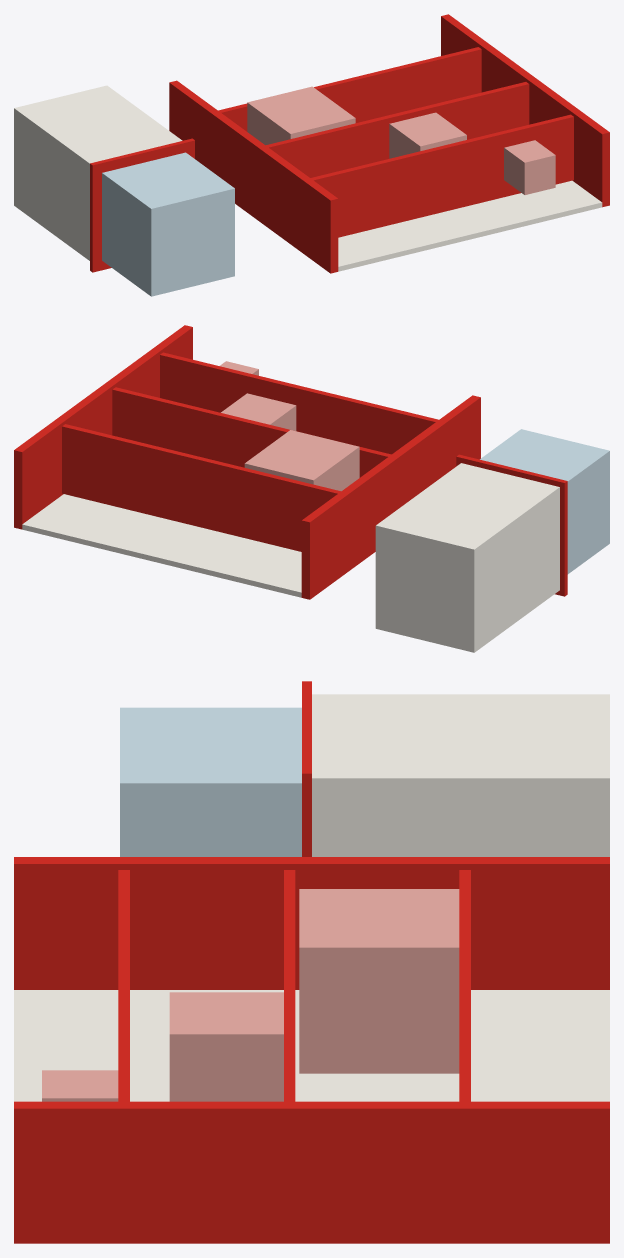
The model's file is display.glb.
3 views of the same model, one above another, from view 1: azimuth 30°, elevation 25°; view 2: azimuth 150°, elevation 25°; view 3: azimuth 270°, elevation 25° (orthographic). The views are drawn at different scales.
Parts seen in each view (by area): view 1: ガラスケース, 展示台, 棚板_上, 棚_側板西, 棚_背板, 棚板_中, 棚板_下, 棚_側板東, ぬいぐるみ大, 展示台トップ, ぬいぐるみ小, ぬいぐるみ中; view 2: 展示台, 棚板_下, 棚_側板西, 棚_背板, 棚板_上, 棚板_中, 棚_側板東, ガラスケース, ぬいぐるみ大, 展示台トップ, ぬいぐるみ中; view 3: 棚_側板東, 棚_側板西, 展示台, 棚_背板, ぬいぐるみ大, ガラスケース, ぬいぐるみ中, 棚板_下, 棚板_中, 棚板_上, ぬいぐるみ小, 展示台トップ.
Part boxes in pixels (x1,y1,x2,y2): ガラスケース: (102, 152, 234, 296); 展示台: (14, 85, 182, 260); 棚板_上: (310, 114, 573, 237); 棚_側板西: (169, 80, 338, 273); 棚_背板: (338, 180, 602, 271); 棚板_中: (266, 82, 529, 177); 棚板_下: (218, 47, 481, 131); 棚_側板東: (441, 14, 609, 207); ぬいぐるみ大: (247, 86, 355, 145); 展示台トップ: (90, 138, 194, 272); ぬいぐるみ小: (504, 140, 555, 194); ぬいぐるみ中: (389, 112, 466, 158); 展示台: (375, 463, 559, 652); 棚板_下: (62, 424, 340, 551); 棚_側板西: (301, 395, 480, 599); 棚_背板: (22, 494, 301, 597); 棚板_上: (160, 352, 438, 454); 棚板_中: (112, 387, 391, 477); 棚_側板東: (14, 325, 192, 529); ガラスケース: (480, 429, 609, 574); ぬいぐるみ大: (244, 430, 359, 491); 展示台トップ: (456, 454, 567, 596); ぬいぐるみ中: (221, 393, 296, 430); 棚_側板東: (14, 1101, 609, 1243); 棚_側板西: (14, 857, 609, 989); 展示台: (312, 694, 609, 856); 棚_背板: (14, 990, 609, 1101); ぬいぐるみ大: (299, 889, 459, 1073); ガラスケース: (120, 707, 301, 856); ぬいぐるみ中: (169, 992, 283, 1101); 棚板_下: (459, 870, 470, 1101); 棚板_中: (284, 870, 295, 1101); 棚板_上: (118, 870, 129, 1101); ぬいぐるみ小: (42, 1070, 118, 1101); 展示台トップ: (302, 681, 311, 856).
Bounding box in the file's own units: 2830 × 660 × 1800.
